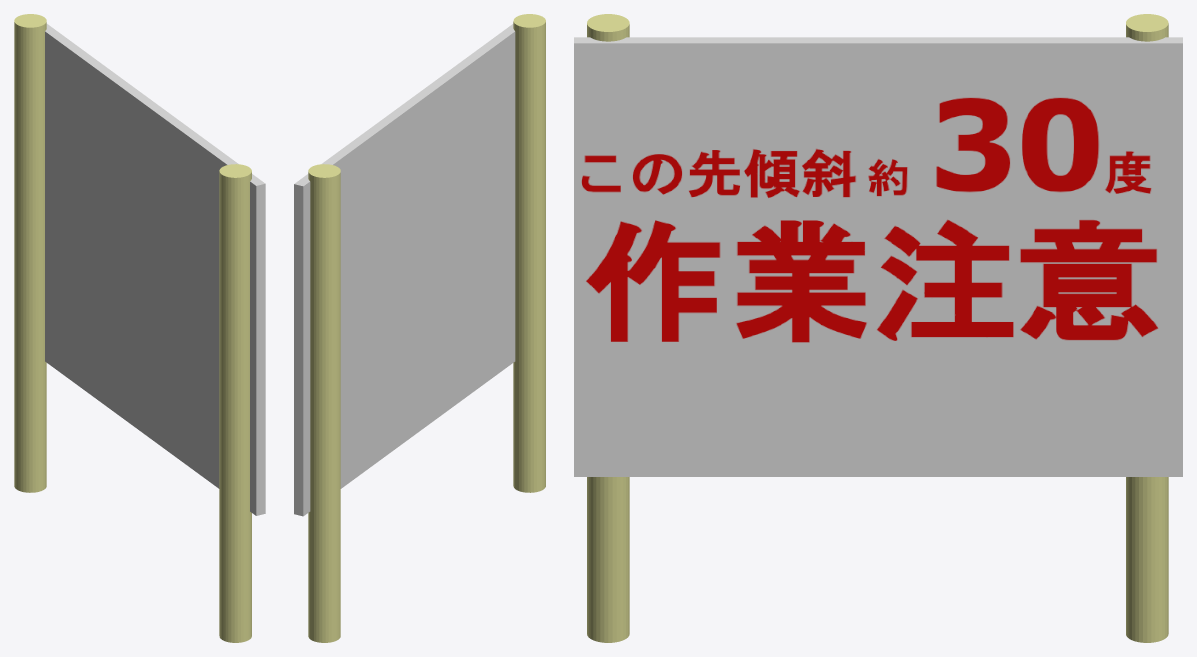
Rendered from Signboard30.fbx.
The picture shows the model from 3 angles, left to right: view 1: azimuth 30°, elevation 25°; view 2: azimuth 150°, elevation 25°; view 3: azimuth 270°, elevation 25°; orthographic projection. The views are drawn at different scales.
Parts seen in each view (by area): view 1: 看板30度; view 2: 看板30度; view 3: 看板30度.
Part boxes in pixels (left/top/right/bottom): 看板30度: left=14, top=14, right=265, bottom=642; 看板30度: left=294, top=14, right=545, bottom=642; 看板30度: left=574, top=14, right=1182, bottom=642.
Bounding box in the file's own units: 9.11 × 131 × 118.
3 materials, 1 textured.
